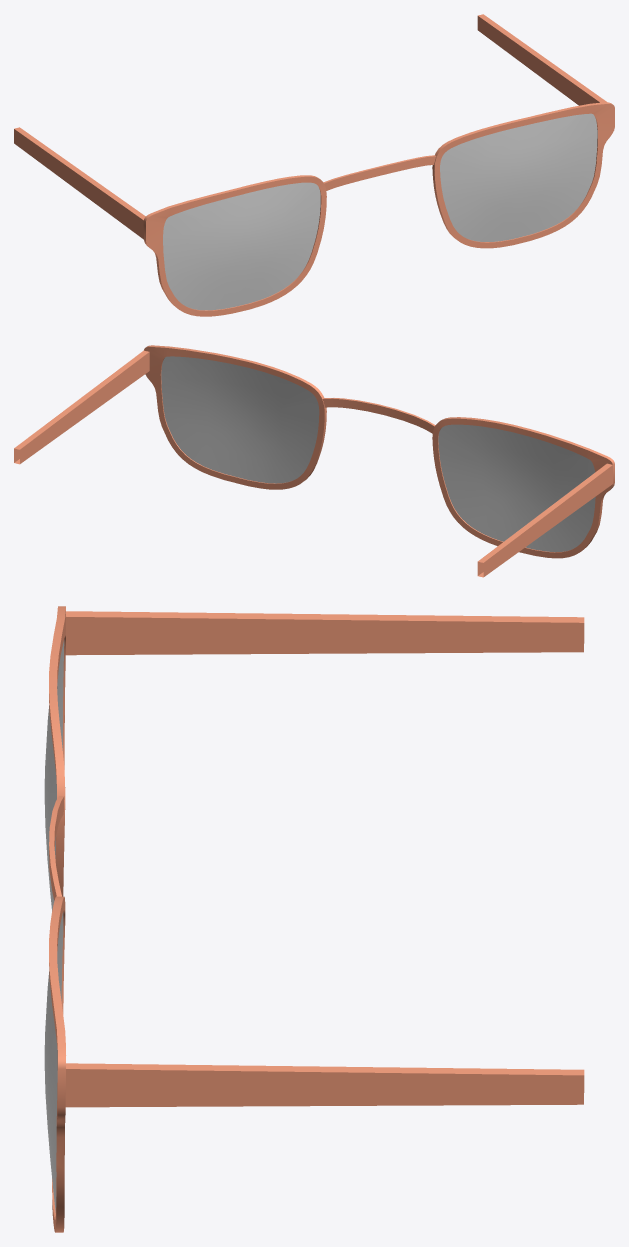
File: PRADA Glasses Wide Optimized Cutoff.fbx
3 renders of one model, top to bottom at view 1: azimuth 30°, elevation 25°; view 2: azimuth 150°, elevation 25°; view 3: azimuth 270°, elevation 25°, orthographic. The views are drawn at different scales.
Visible parts, largest first — view 1: PRADA Glasses Wide Optimized Cutoff; view 2: PRADA Glasses Wide Optimized Cutoff; view 3: PRADA Glasses Wide Optimized Cutoff.
Part boxes in pixels (left/top/right/bottom): PRADA Glasses Wide Optimized Cutoff: left=14, top=14, right=614, bottom=316; PRADA Glasses Wide Optimized Cutoff: left=14, top=345, right=614, bottom=577; PRADA Glasses Wide Optimized Cutoff: left=44, top=606, right=584, bottom=1232.
Bounding box in the file's own units: 0.1874 × 0.0471 × 0.0933.
